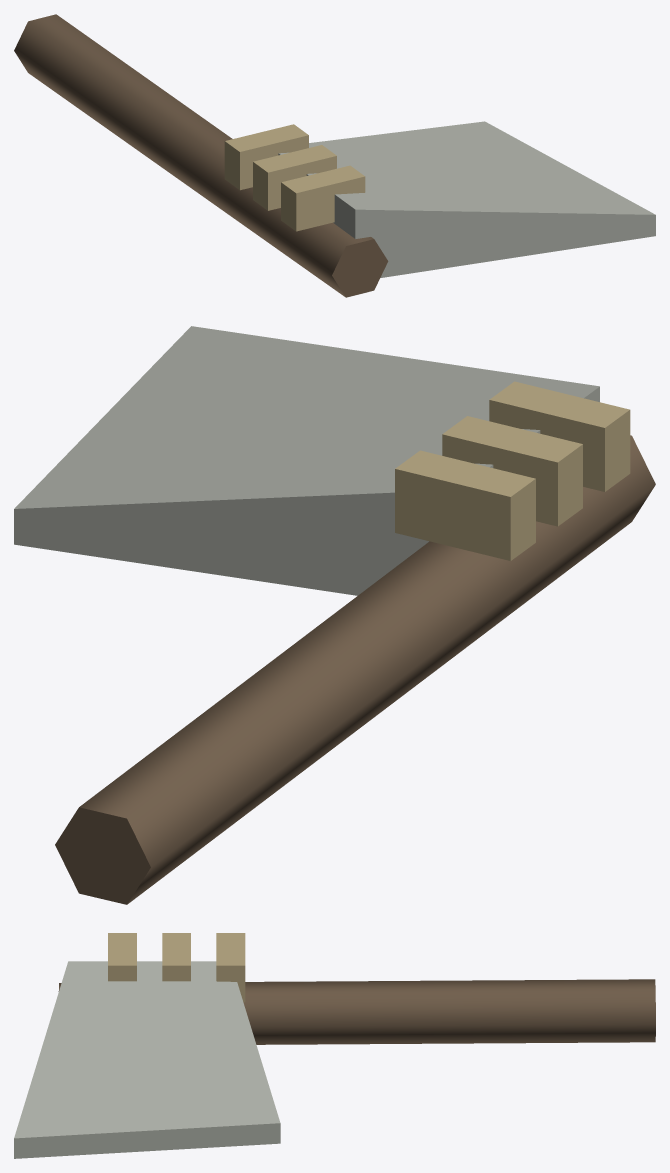
Rendered from spread-portable-breachercleaver.fbx.
The picture shows the model from 3 angles, top to bottom: view 1: azimuth 30°, elevation 25°; view 2: azimuth 150°, elevation 25°; view 3: azimuth 270°, elevation 25°; orthographic projection. The views are drawn at different scales.
Parts seen in each view (by area): view 1: spread-portable-breachercleaver__Geometry; view 2: spread-portable-breachercleaver__Geometry; view 3: spread-portable-breachercleaver__Geometry.
Part boxes in pixels (x1,y1,x2,y2): spread-portable-breachercleaver__Geometry: (14,14,655,297); spread-portable-breachercleaver__Geometry: (14,326,655,904); spread-portable-breachercleaver__Geometry: (14,933,655,1158).
Size of the model in its own units: 0.3825 by 0.1078 by 0.7105.
